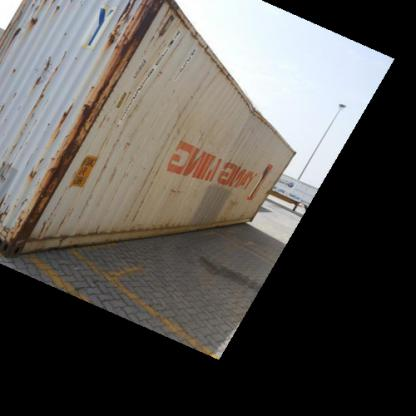Damage: (26, 99, 95, 196), (109, 2, 181, 61), (3, 202, 40, 256), (234, 98, 282, 134), (16, 12, 56, 40), (29, 47, 64, 75), (156, 180, 194, 198), (225, 191, 255, 210)
